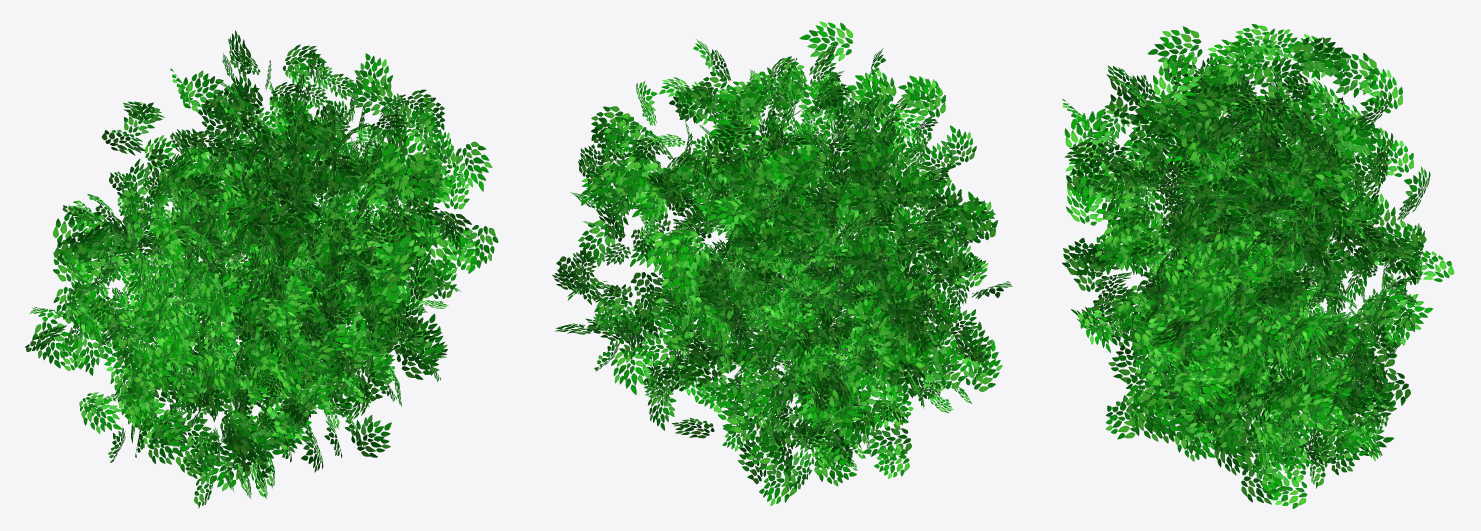
The model's file is TreeLeaves.fbx.
3 views of the same model, side by side, from view 1: azimuth 30°, elevation 25°; view 2: azimuth 150°, elevation 25°; view 3: azimuth 270°, elevation 25° (orthographic). The views are drawn at different scales.
Parts seen in each view (by area): view 1: TreeLeaves; view 2: TreeLeaves; view 3: TreeLeaves.
Part boxes in pixels (box(x1,y1,x2,y2)): TreeLeaves: box(25, 30, 498, 508); TreeLeaves: box(552, 21, 1012, 506); TreeLeaves: box(1062, 24, 1454, 508).
Bounding box in the file's own units: 396 × 378 × 306.
